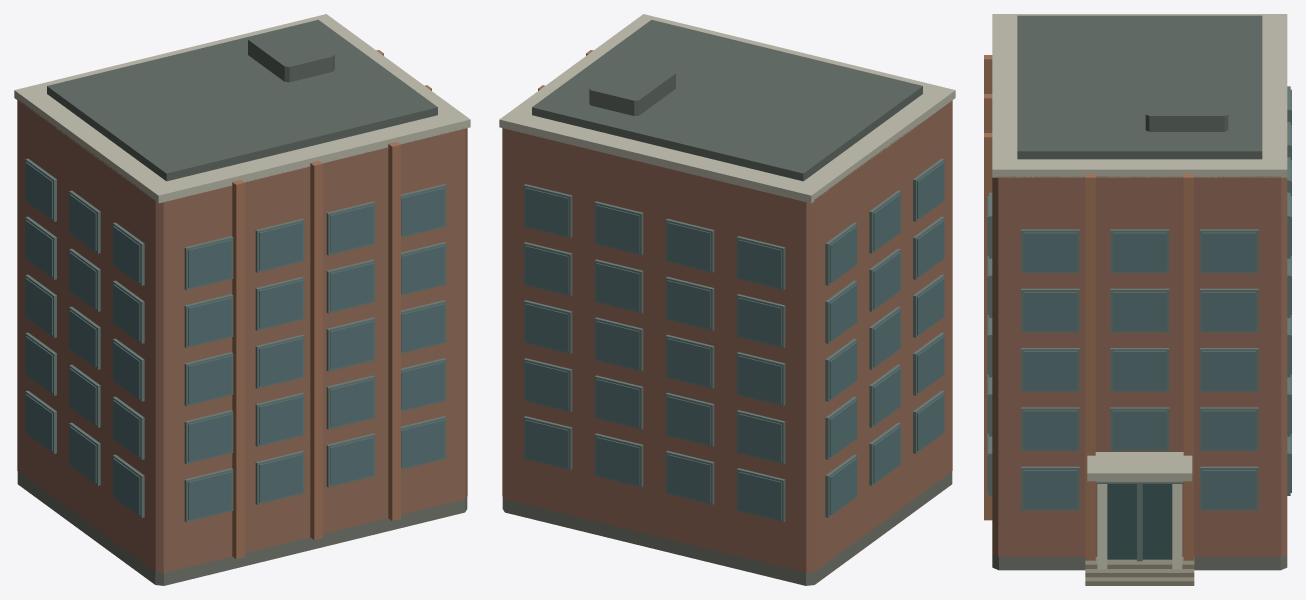
3 views of the same model, side by side, from view 1: azimuth 30°, elevation 25°; view 2: azimuth 150°, elevation 25°; view 3: azimuth 270°, elevation 25° (orthographic). The views are drawn at different scales.
Parts seen in each view (by area): view 1: form, glaze, relief, glowing; view 2: form, glaze, relief, glowing; view 3: form, glaze, relief, glowing.
Part boxes in pixels (left/top/right/bottom): form: left=14, top=14, right=470, bottom=585; glaze: left=25, top=162, right=444, bottom=520; relief: left=25, top=158, right=446, bottom=522; glowing: left=113, top=321, right=373, bottom=399; form: left=499, top=14, right=955, bottom=585; glaze: left=525, top=162, right=944, bottom=520; relief: left=523, top=158, right=944, bottom=522; glowing: left=667, top=278, right=944, bottom=386; form: left=984, top=14, right=1287, bottom=585; glaze: left=987, top=89, right=1291, bottom=559; relief: left=989, top=86, right=1290, bottom=569; glowing: left=1202, top=351, right=1255, bottom=390.
Bounding box in the file's own units: 11.54 × 12.71 × 8.35.
